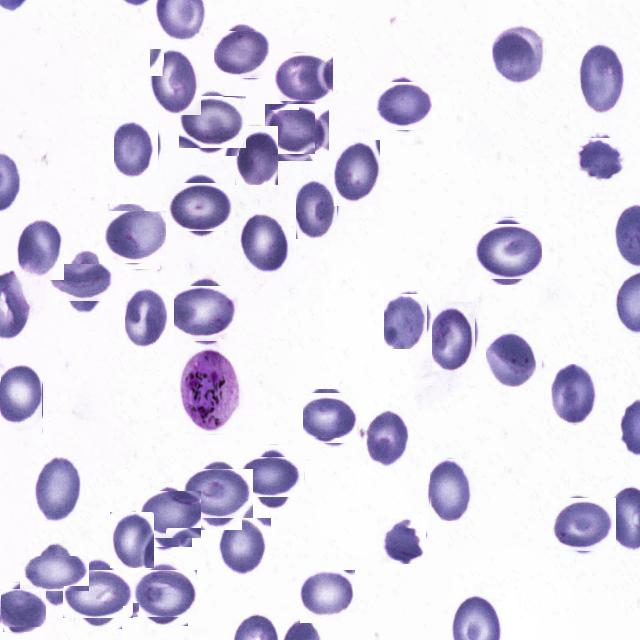difficult: (179, 348, 245, 435)
red blood cell: (577, 39, 628, 120), (172, 282, 236, 346), (217, 518, 271, 587), (478, 220, 538, 282), (186, 464, 247, 524), (553, 495, 613, 555), (182, 92, 242, 152), (68, 564, 128, 623), (150, 49, 202, 116), (105, 207, 163, 266), (360, 404, 407, 476), (268, 100, 326, 158), (492, 23, 545, 86), (239, 211, 290, 276), (486, 332, 543, 388), (172, 178, 228, 235), (136, 565, 192, 622), (334, 140, 381, 207), (272, 50, 328, 106), (432, 302, 476, 372), (140, 487, 196, 542), (16, 216, 64, 280), (125, 286, 174, 348), (550, 364, 599, 425), (1, 363, 43, 434), (54, 255, 108, 310), (300, 570, 355, 623), (217, 28, 270, 82), (33, 457, 78, 520), (28, 547, 80, 600), (114, 116, 158, 178), (248, 450, 300, 502), (378, 80, 430, 132), (296, 177, 338, 240), (430, 459, 472, 521), (235, 126, 278, 185), (305, 391, 355, 441), (376, 515, 426, 565), (573, 134, 623, 184), (384, 294, 428, 350), (110, 512, 154, 568), (1, 586, 44, 630)
